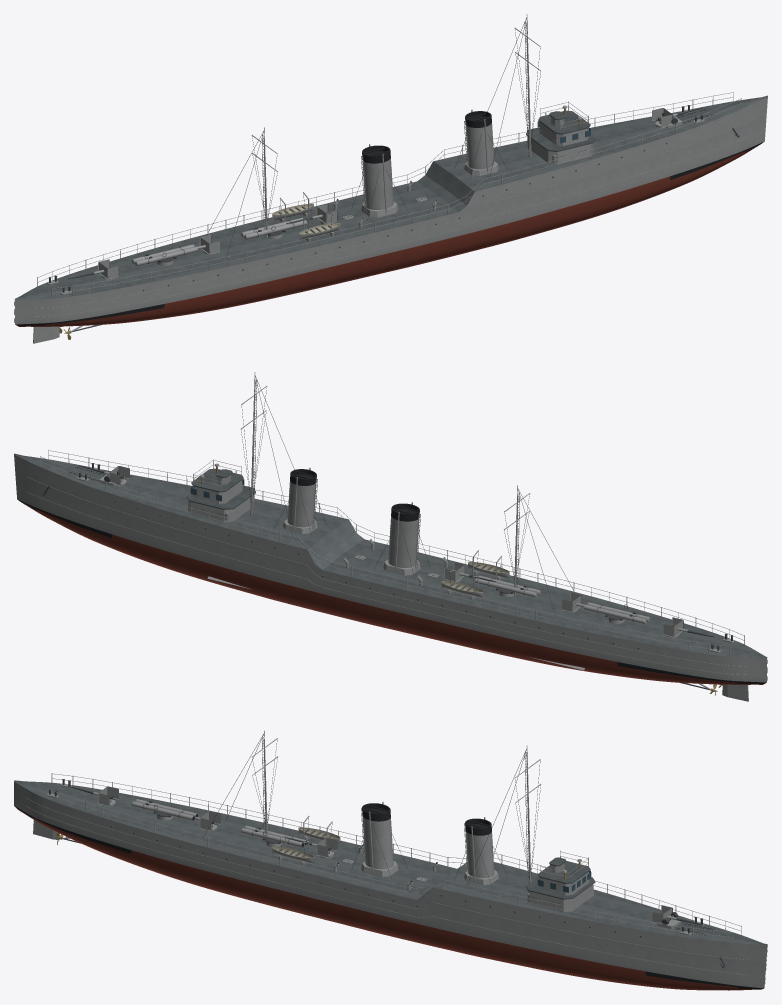
The model's file is palestro.glb.
3 renders of one model, top to bottom at view 1: azimuth 30°, elevation 25°; view 2: azimuth 150°, elevation 25°; view 3: azimuth 330°, elevation 25°, orthographic.
Visible parts, largest first — view 1: Palestro class; view 2: Palestro class; view 3: Palestro class.
Part boxes in pixels (left/top/right/bottom): Palestro class: left=14, top=14, right=767, bottom=343; Palestro class: left=14, top=372, right=767, bottom=701; Palestro class: left=14, top=730, right=767, bottom=990.
Bounding box in the file's own units: 81.9 × 21.9 × 8.08.
9 materials, 8 textured.
